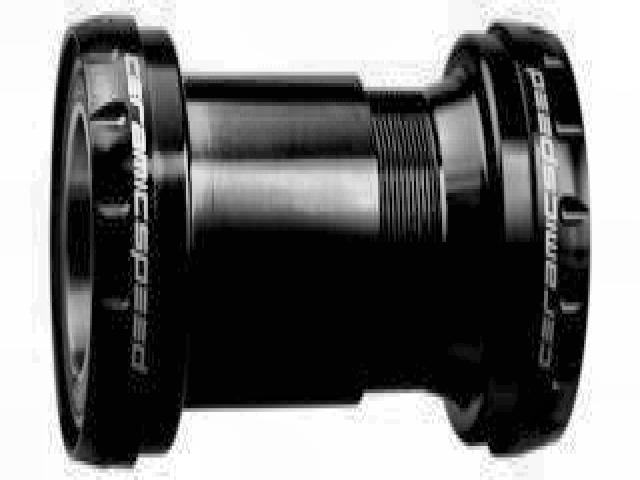bottom_bracket: (47, 10, 592, 472)
